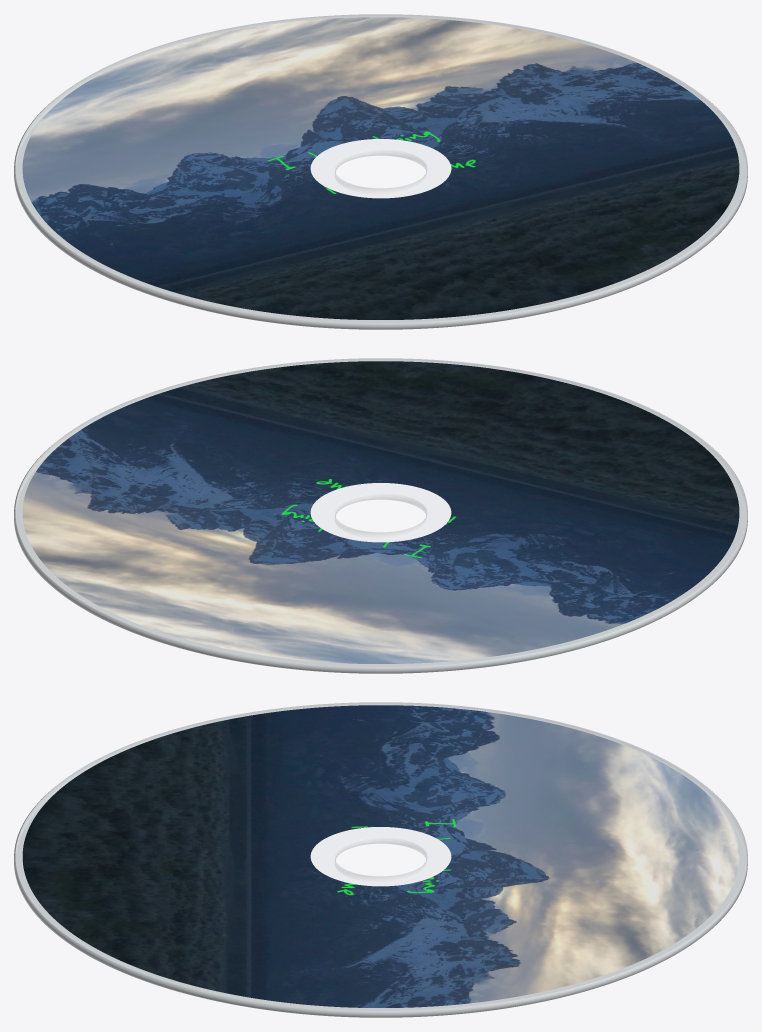
3 views of the same model, one above another, from view 1: azimuth 30°, elevation 25°; view 2: azimuth 150°, elevation 25°; view 3: azimuth 270°, elevation 25° (orthographic).
Parts seen in each view (by area): view 1: Ye · complete CD; view 2: Ye · complete CD; view 3: Ye · complete CD.
Boxes of the visible parts, box(x1,y1,x2,y2) form: Ye · complete CD: box(14, 14, 747, 329); Ye · complete CD: box(14, 358, 747, 673); Ye · complete CD: box(14, 702, 747, 1017).
Size of the model in its own units: 0.12 by 0.00132 by 0.12.
5 materials, 2 textured.
